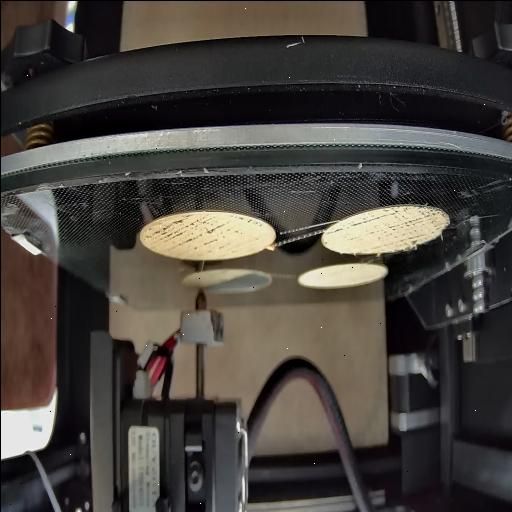under_extrusion: (142, 216, 262, 252), (362, 208, 436, 249), (325, 218, 362, 238)
